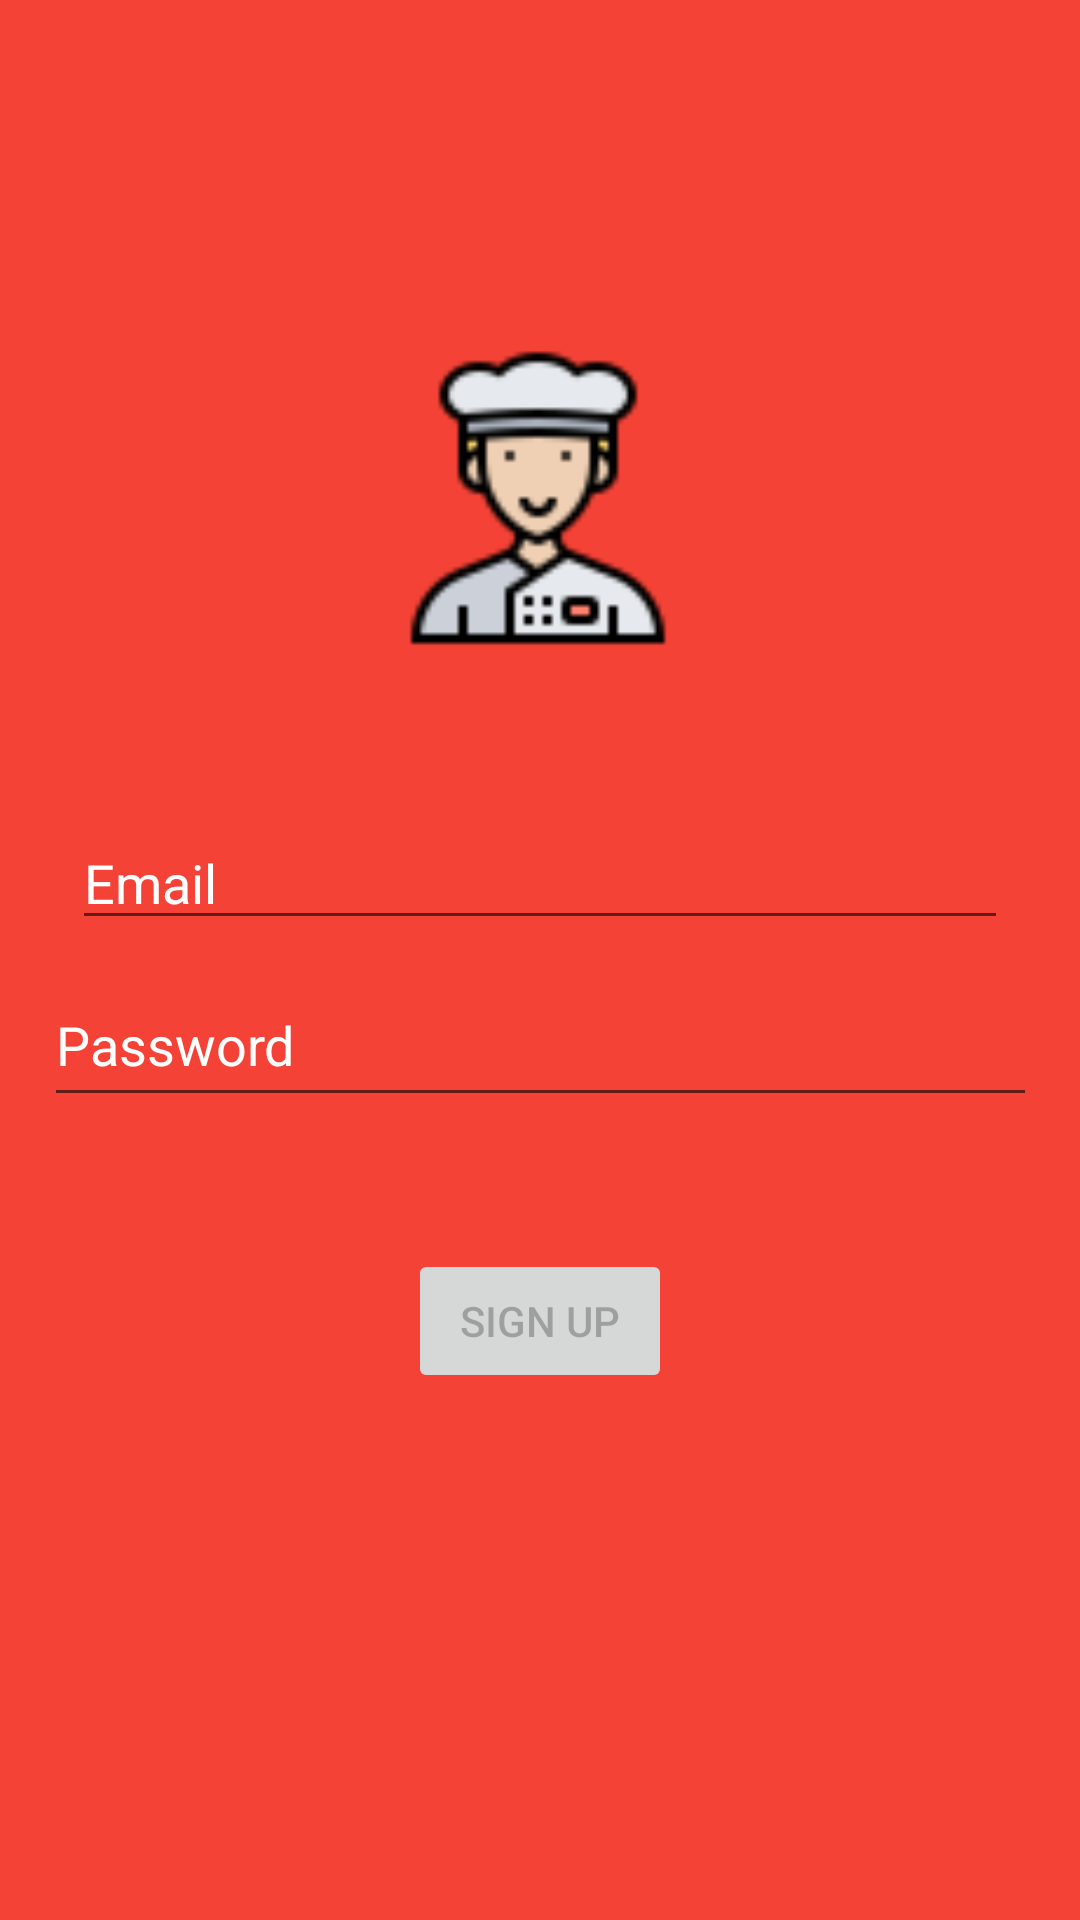

Point at icon controls on the screen. Image size 1080 x 1920, points as (x=x, y=y).
chef: (x=538, y=498)
